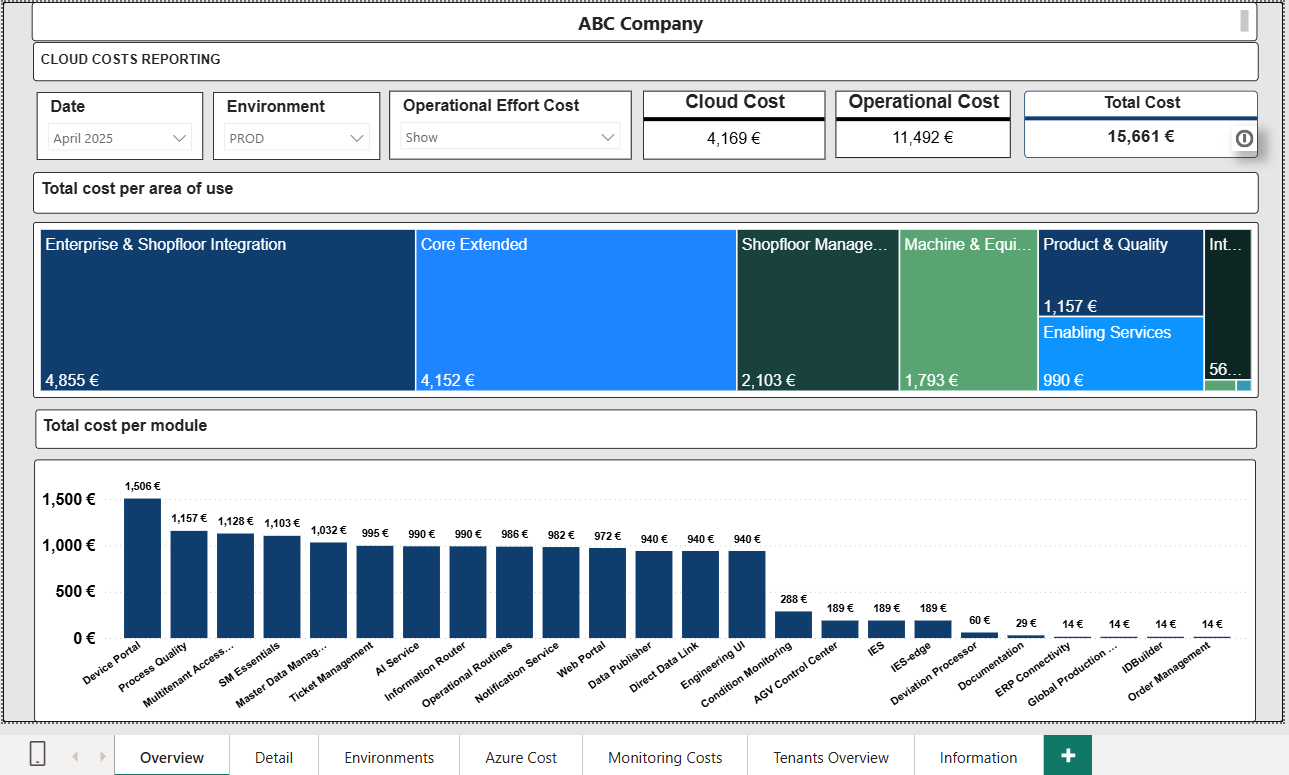

The page's visual inventory and layout, read from the dashboard file:
{"tool":"powerbi","page":{"name":"Overview","canvas":[1280,720],"ordinal":0},"visuals":[{"type":"textbox","box":[30.2,39.9,1225.5,38.9],"z":1000},{"type":"slicer","fields":{"Values":["Date Table.Date"]},"box":[33.2,89.4,166.1,67.7],"z":3000},{"type":"slicer","fields":{"Values":["Environment.Environment"]},"box":[209.5,89.4,167.4,67.7],"z":4000},{"type":"treemap","fields":{"Group":["Area of Use.Area of Use"],"Values":["Distribution Factors.Filter Total"]},"box":[30.6,220.1,1225.3,176.1],"z":5000},{"type":"columnChart","fields":{"Category":["Distribution Factors.Modules"],"Y":["Distribution Factors.Filter Total"]},"box":[31.8,457.5,1221.9,262.4],"z":6000},{"type":"textbox","box":[30.6,170,1225.3,41.6],"z":7000},{"type":"textbox","box":[33,407.2,1221.6,39.1],"z":8000},{"type":"card","title":"Cloud Cost","fields":{"Values":["Distribution Factors.Filter Cloud"]},"box":[639.5,89.3,182.2,68.5],"z":9000},{"type":"card","title":"Operational Cost","fields":{"Values":["Distribution Factors.Filter Operational"]},"box":[832.7,89.3,174.9,67.3],"z":10000},{"type":"card","title":"Total Cost","fields":{"Values":["Distribution Factors.Filter Total"]},"box":[1021.1,89.3,233.6,67.3],"z":11000},{"type":"actionButton","box":[1228.9,123.5,25.7,25.7],"z":12000},{"type":"slicer","fields":{"Values":["Operational Cost Toggle.Show/Hide"]},"box":[386.4,89.3,242.1,68.5],"z":13000},{"type":"textbox","box":[29.3,0,1225.3,39.1],"z":13001}]}

Visuals, with their boxes on the page's 1280x720 design canvas (x1, y1, x2, y2). These are canvas units, not pixel positions in the 1289x775 screenshot, which may show the page scaled, cropped or inside an application window:
textbox: {"x1": 30, "y1": 40, "x2": 1256, "y2": 79}
slicer - Date Table.Date: {"x1": 33, "y1": 89, "x2": 199, "y2": 157}
slicer - Environment.Environment: {"x1": 210, "y1": 89, "x2": 377, "y2": 157}
treemap - Area of Use.Area of Use x Distribution Factors.Filter Total: {"x1": 31, "y1": 220, "x2": 1256, "y2": 396}
columnChart - Distribution Factors.Modules x Distribution Factors.Filter Total: {"x1": 32, "y1": 458, "x2": 1254, "y2": 720}
textbox: {"x1": 31, "y1": 170, "x2": 1256, "y2": 212}
textbox: {"x1": 33, "y1": 407, "x2": 1255, "y2": 446}
"Cloud Cost" card: {"x1": 640, "y1": 89, "x2": 822, "y2": 158}
"Operational Cost" card: {"x1": 833, "y1": 89, "x2": 1008, "y2": 157}
"Total Cost" card: {"x1": 1021, "y1": 89, "x2": 1255, "y2": 157}
actionButton: {"x1": 1229, "y1": 124, "x2": 1255, "y2": 149}
slicer - Operational Cost Toggle.Show/Hide: {"x1": 386, "y1": 89, "x2": 628, "y2": 158}
textbox: {"x1": 29, "y1": 0, "x2": 1255, "y2": 39}
